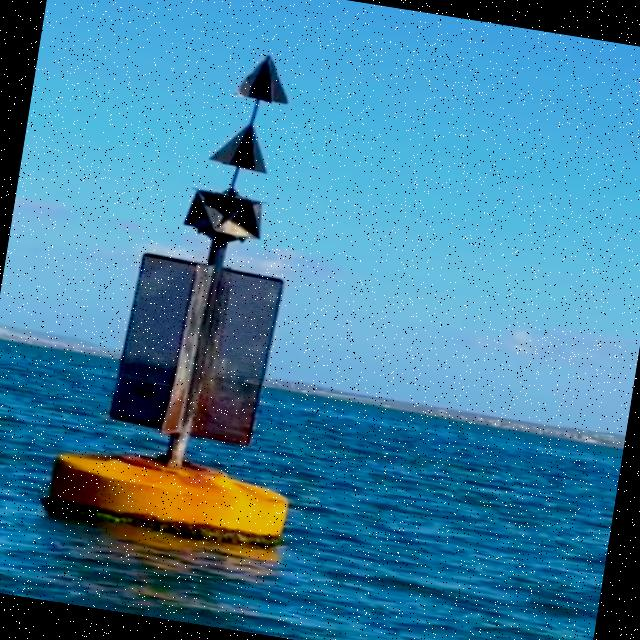marque: (48, 30, 353, 551)
